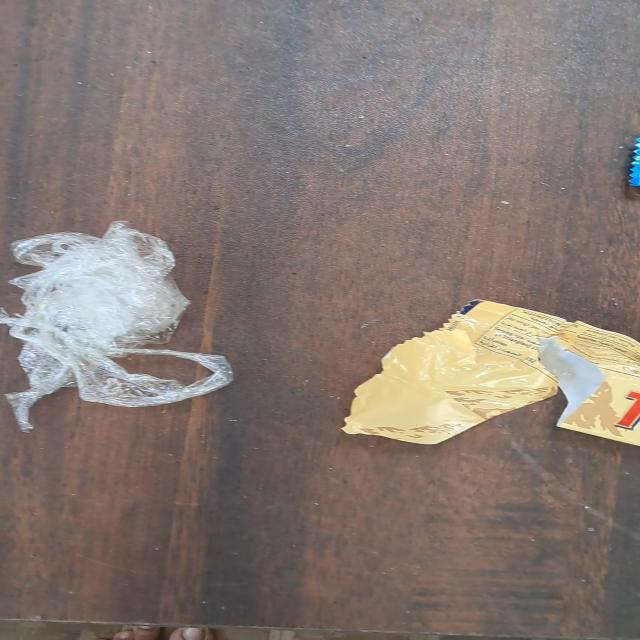Anorganik: (0, 222, 246, 432), (339, 299, 640, 444)
